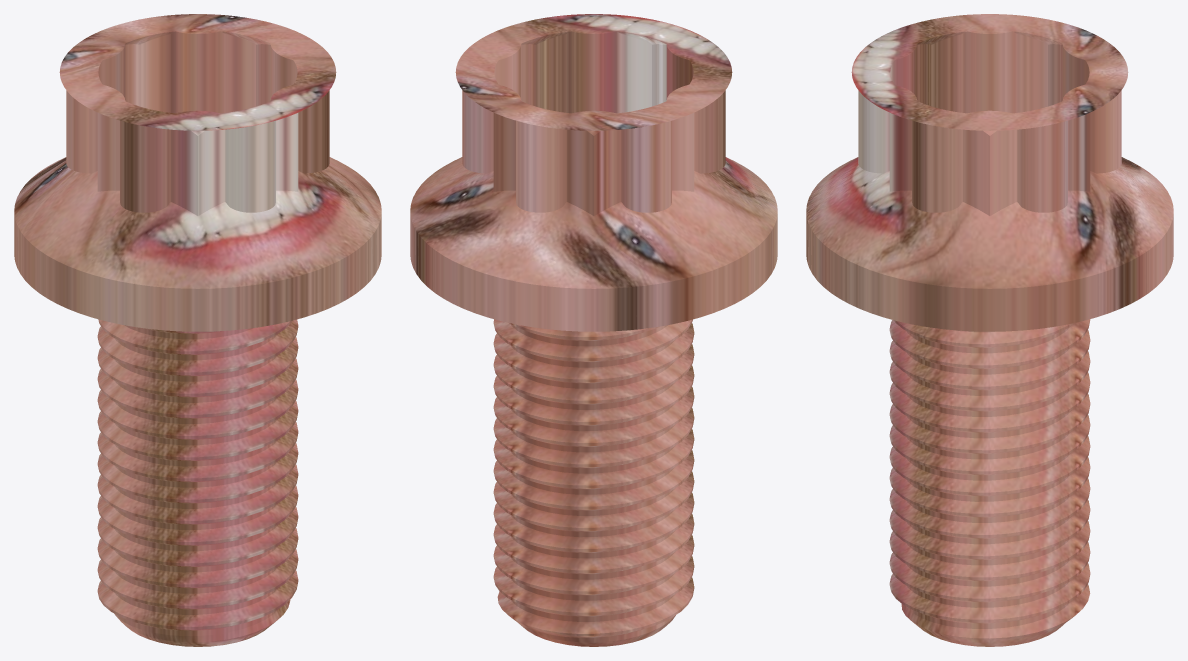
Rendered from kroeger-12-point-torx-bolt.glb.
The picture shows the model from 3 angles, left to right: view 1: azimuth 30°, elevation 25°; view 2: azimuth 150°, elevation 25°; view 3: azimuth 270°, elevation 25°; orthographic projection.
Visible parts, largest first — view 1: Bolt.009; view 2: Bolt.009; view 3: Bolt.009.
Part boxes in pixels (x1,y1,x2,y2): Bolt.009: (14, 14, 381, 646); Bolt.009: (410, 14, 777, 646); Bolt.009: (806, 14, 1173, 646).
Bounding box in the file's own units: 0.011 × 0.0179 × 0.011.
1 material, 1 textured.
